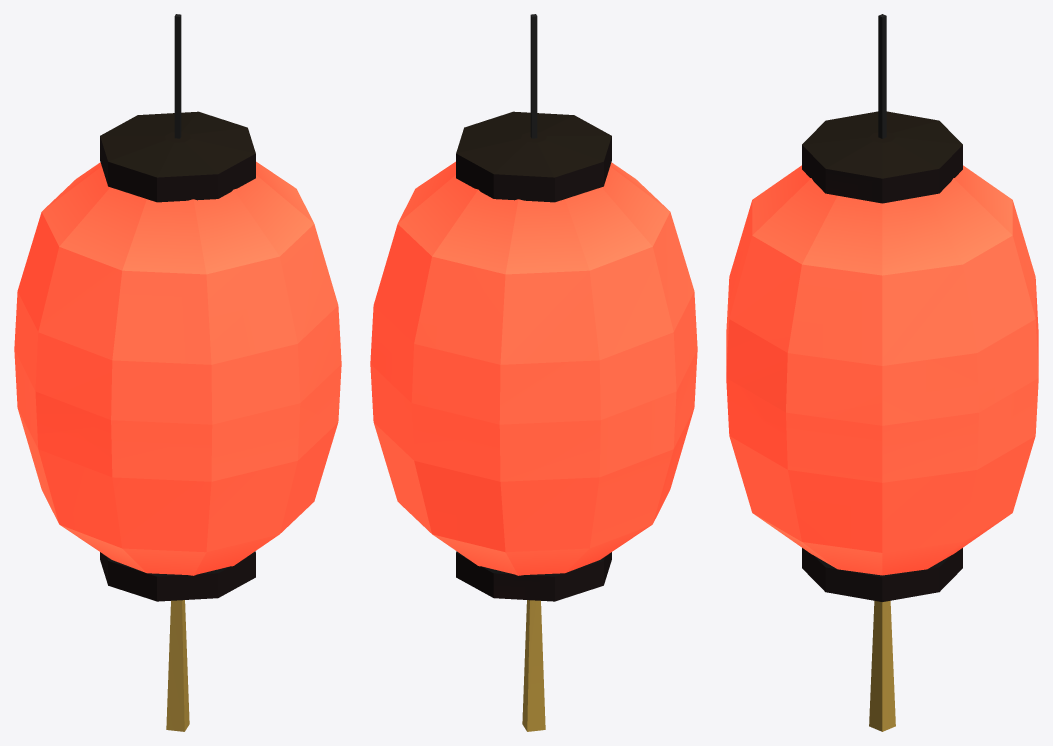
File: tp_lantern-CmvMn9yp.glb
The picture shows the model from 3 angles, left to right: view 1: azimuth 30°, elevation 25°; view 2: azimuth 150°, elevation 25°; view 3: azimuth 270°, elevation 25°; orthographic projection.
Size of the model in its own units: 0.4896 by 1.17 by 0.4656.
